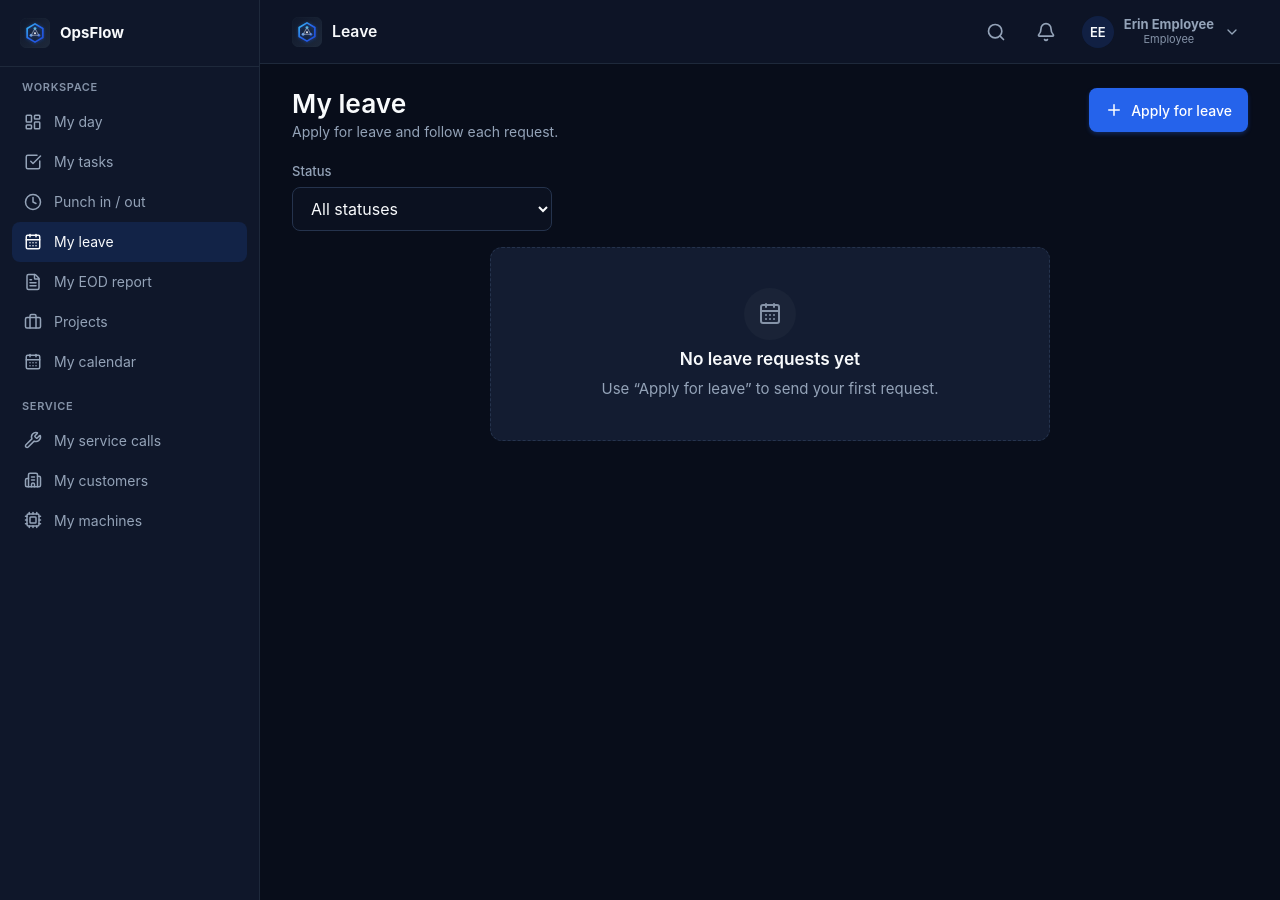
Test: My leave › applies for leave with the entered dates and reason
Click the button "Apply for leave": (1169,110) [1089, 88, 1248, 132]
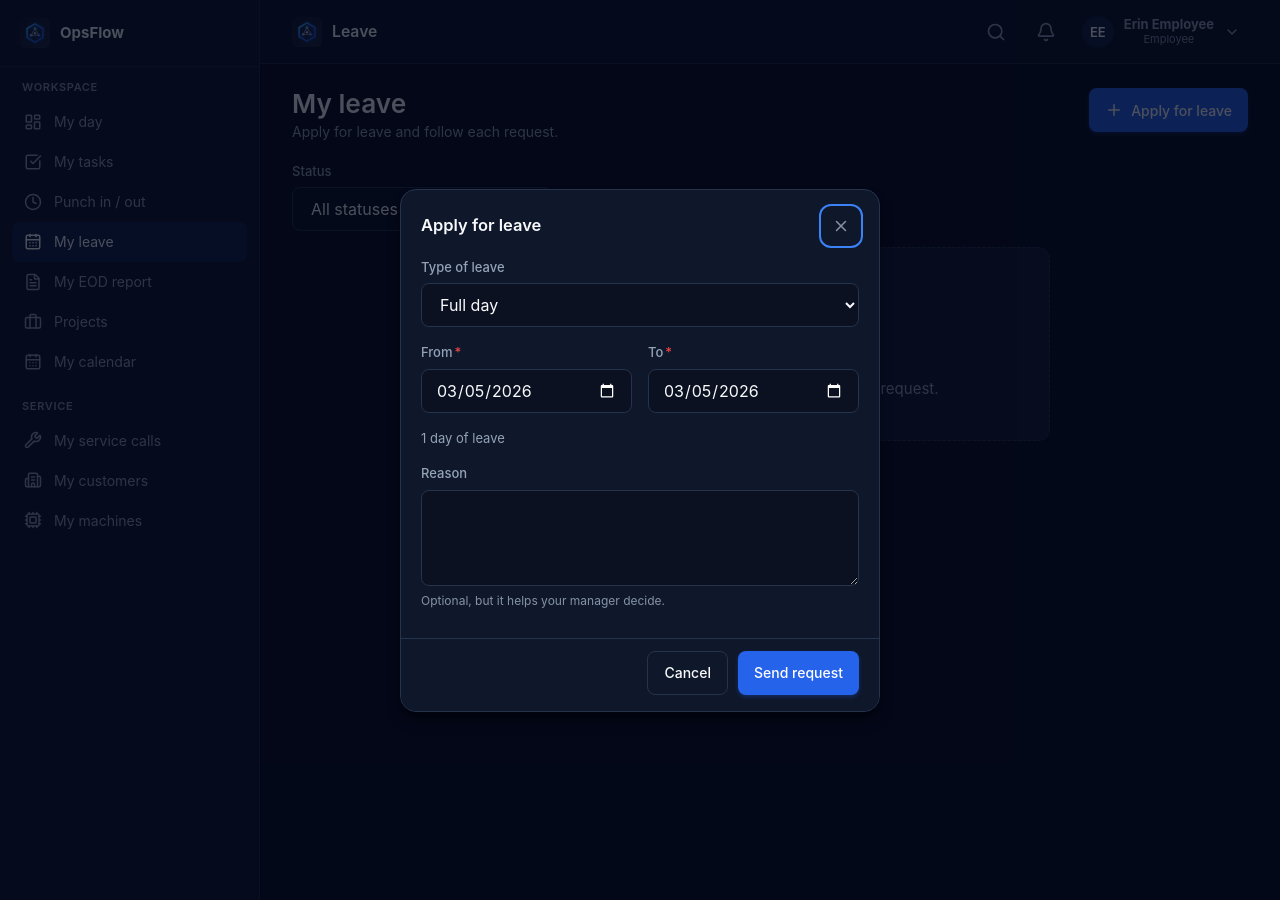
Check: the date field labelled "From*" holds "2026-03-05"
Clear the date field labelled "From*": (526,390) [421, 368, 632, 412]
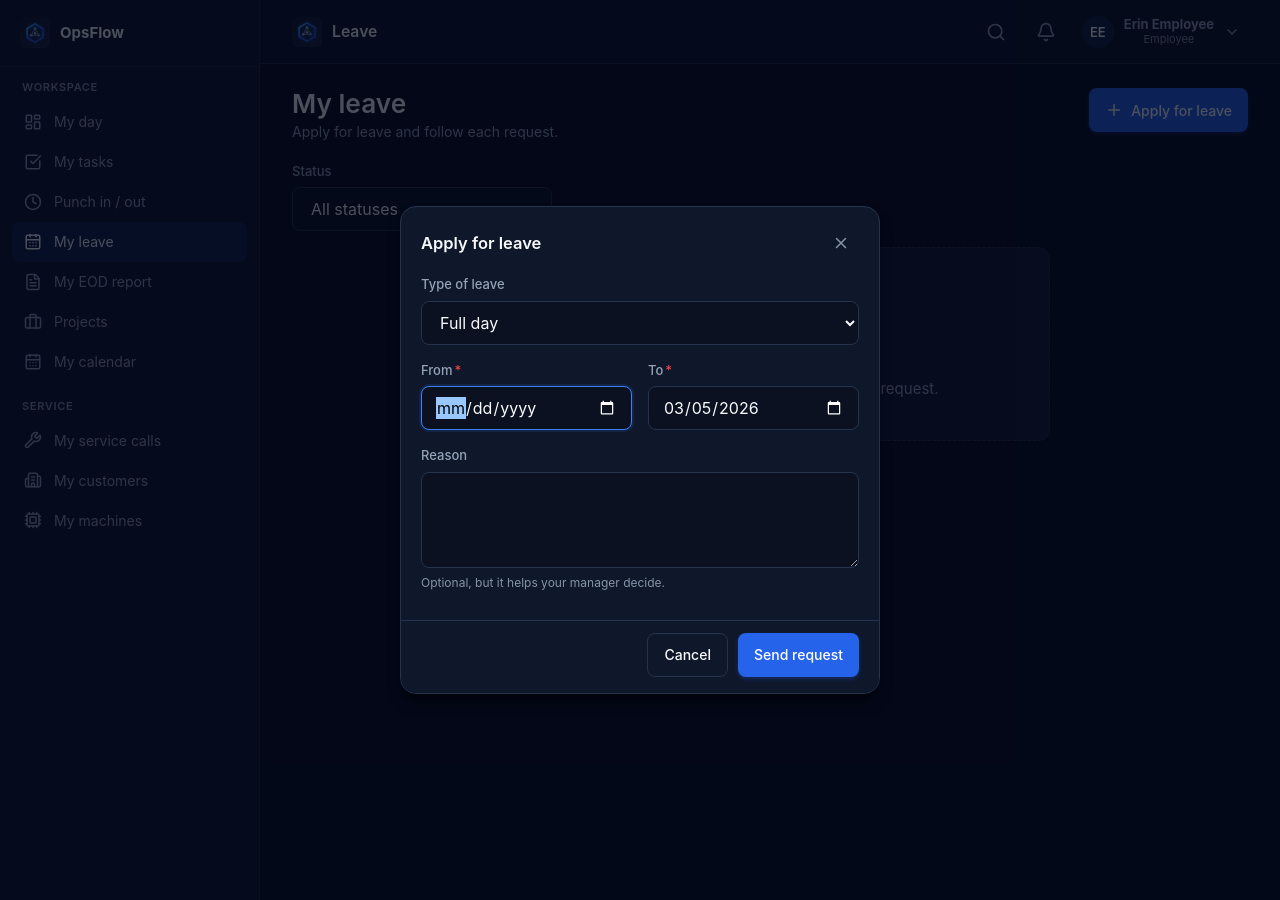
In the date field labelled "From*": (526,408) [421, 386, 632, 430], type "2026-03-10"
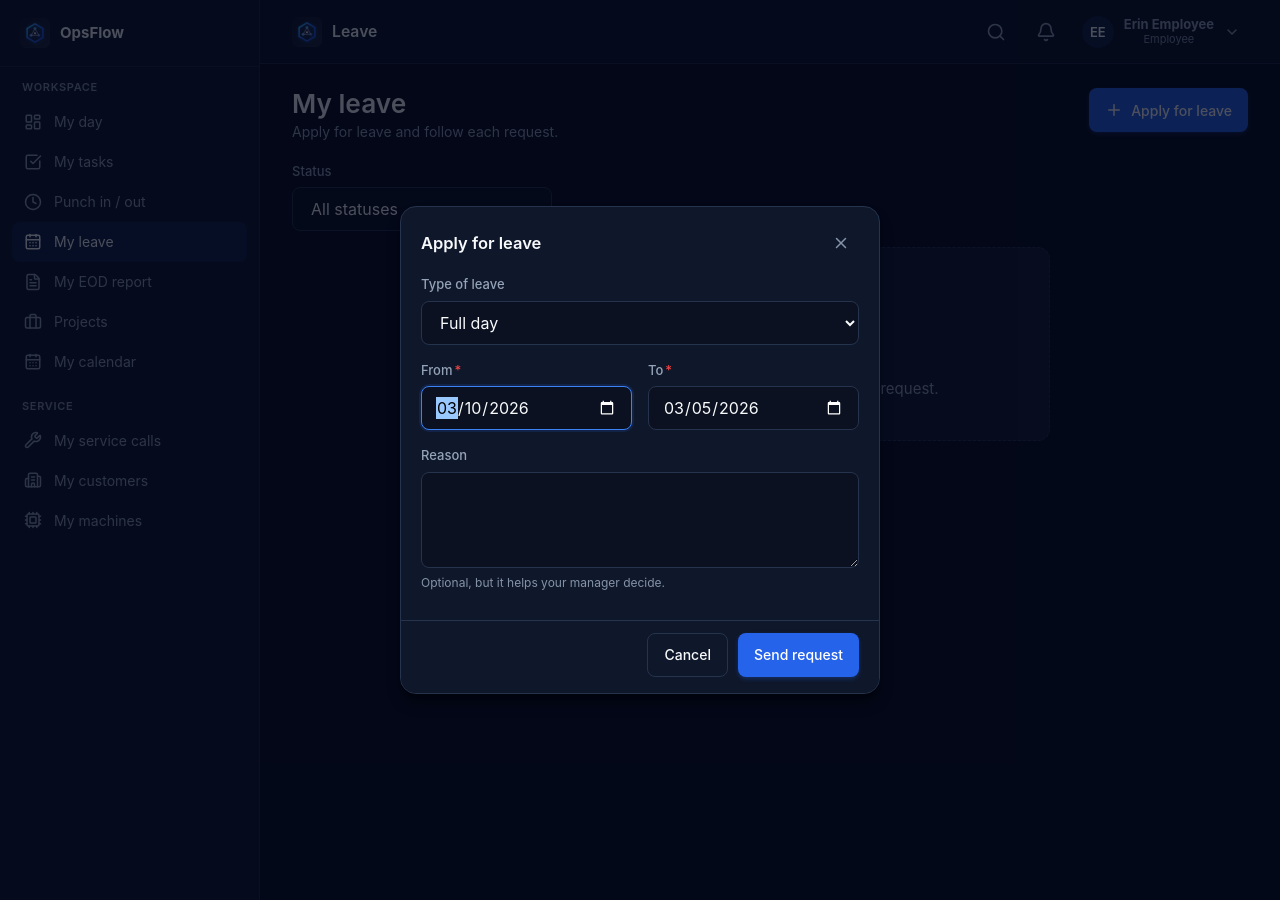
In the date field labelled "To*": (754,408) [648, 386, 859, 430], type "2026-03-12"
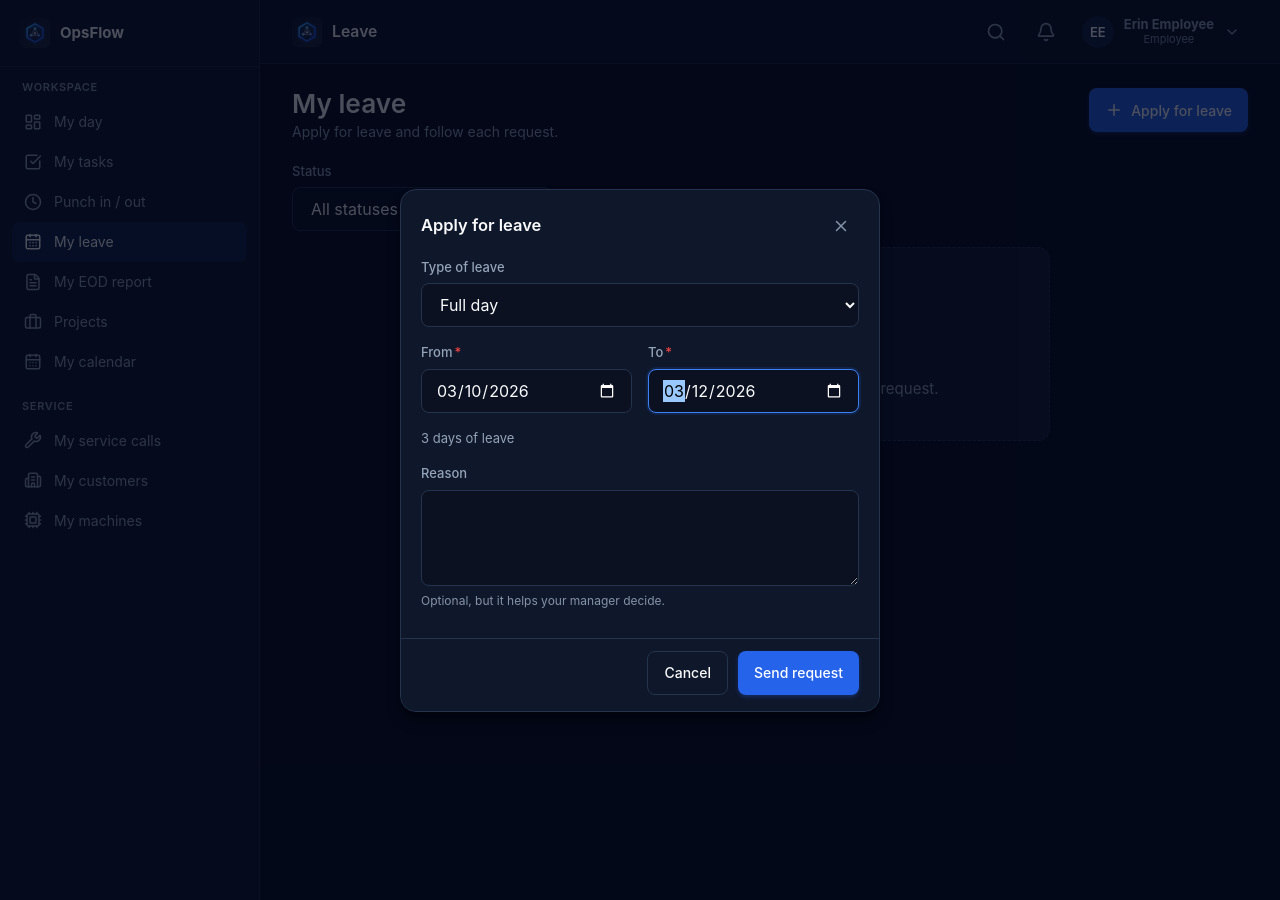
Check: the text "3 days of leave" is shown, box [421, 430, 514, 446]
In the text box labelled "Reason": (640,538) [421, 490, 859, 586], type "  Family function  "
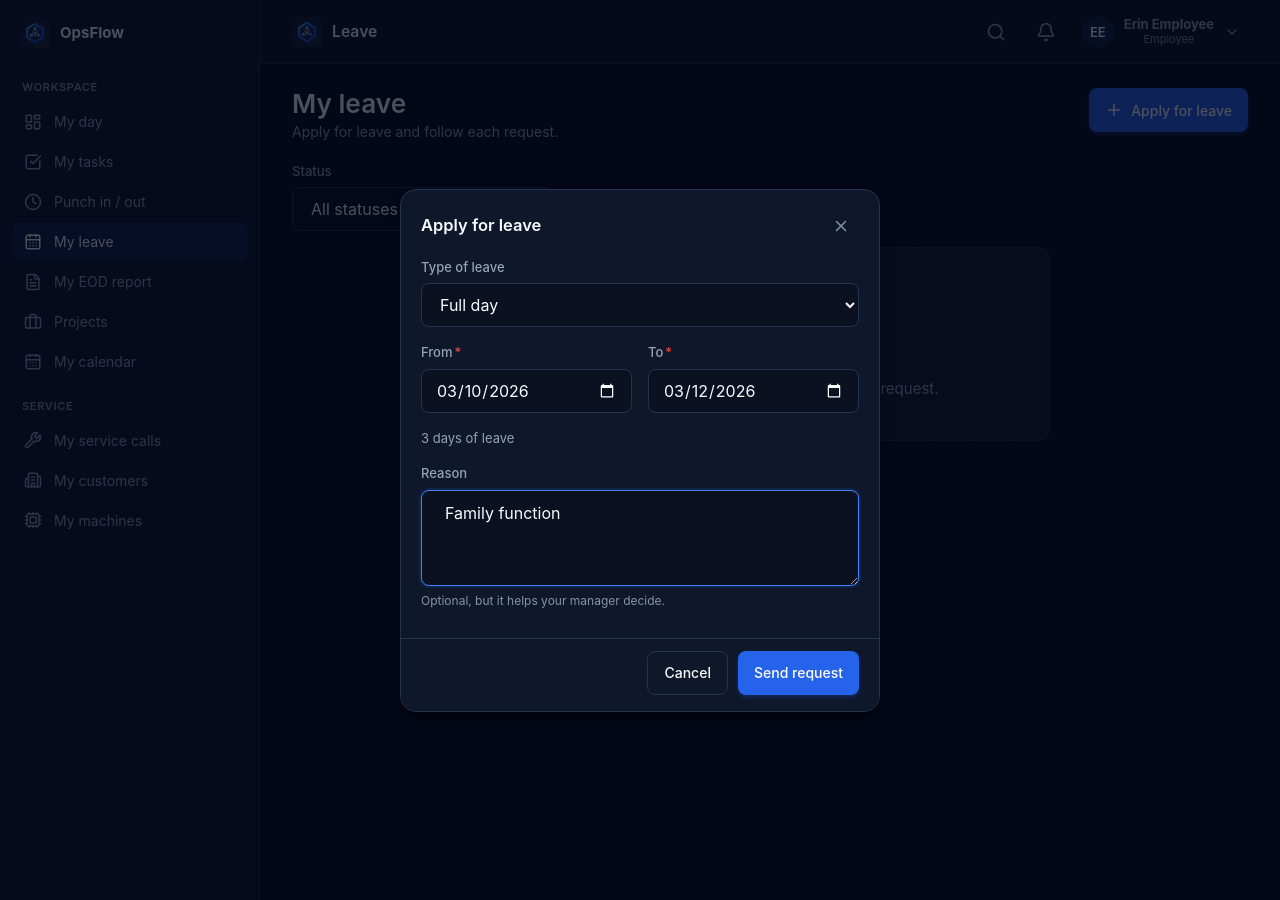
Click the button "Send request": (798,672) [738, 650, 859, 694]
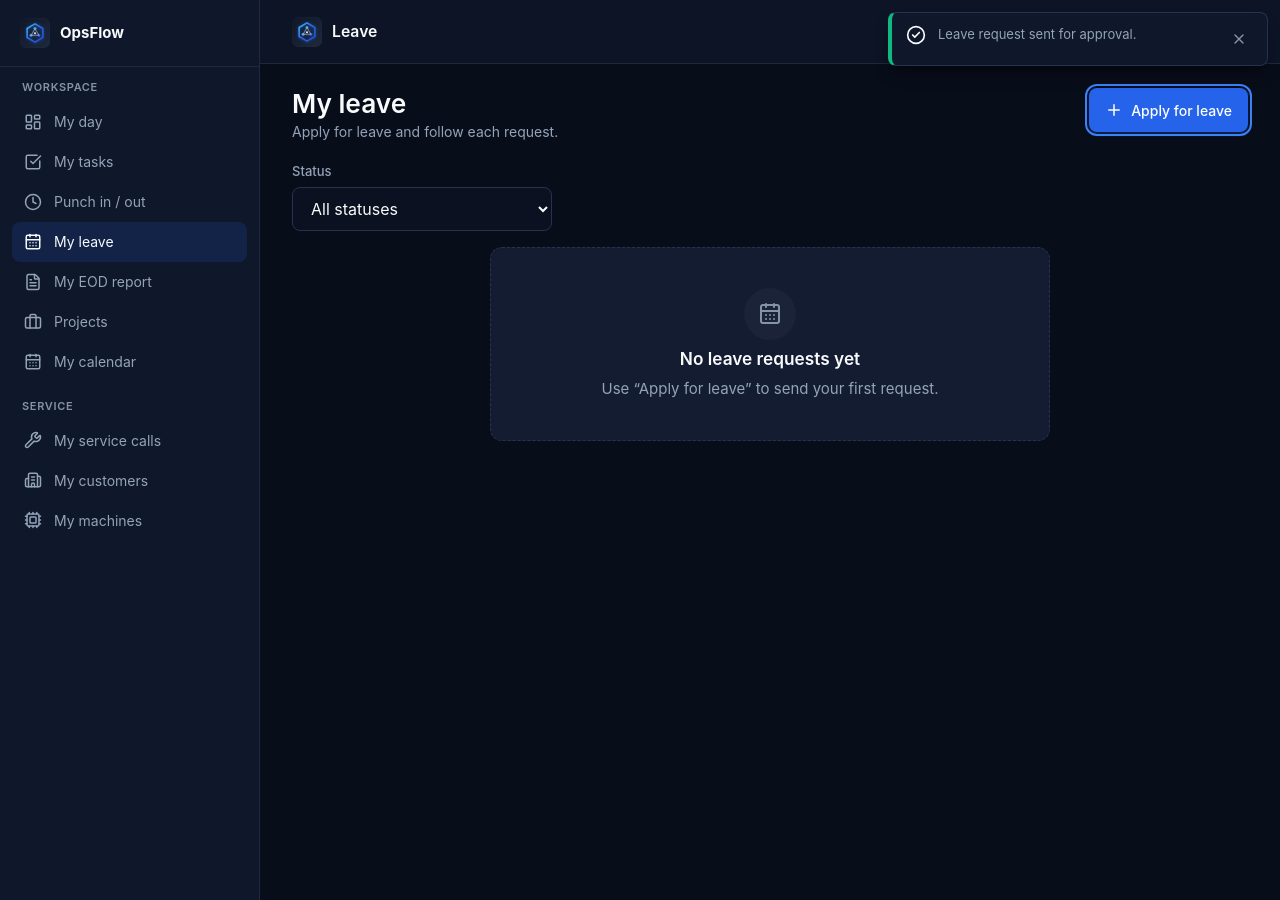
Check: the text "Leave request sent for approval." is shown, box [938, 26, 1136, 42]
